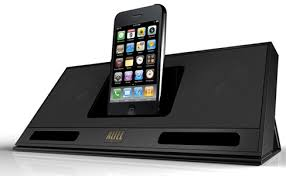iphone: (104, 1, 168, 118)
iphone4: (104, 2, 168, 119)
